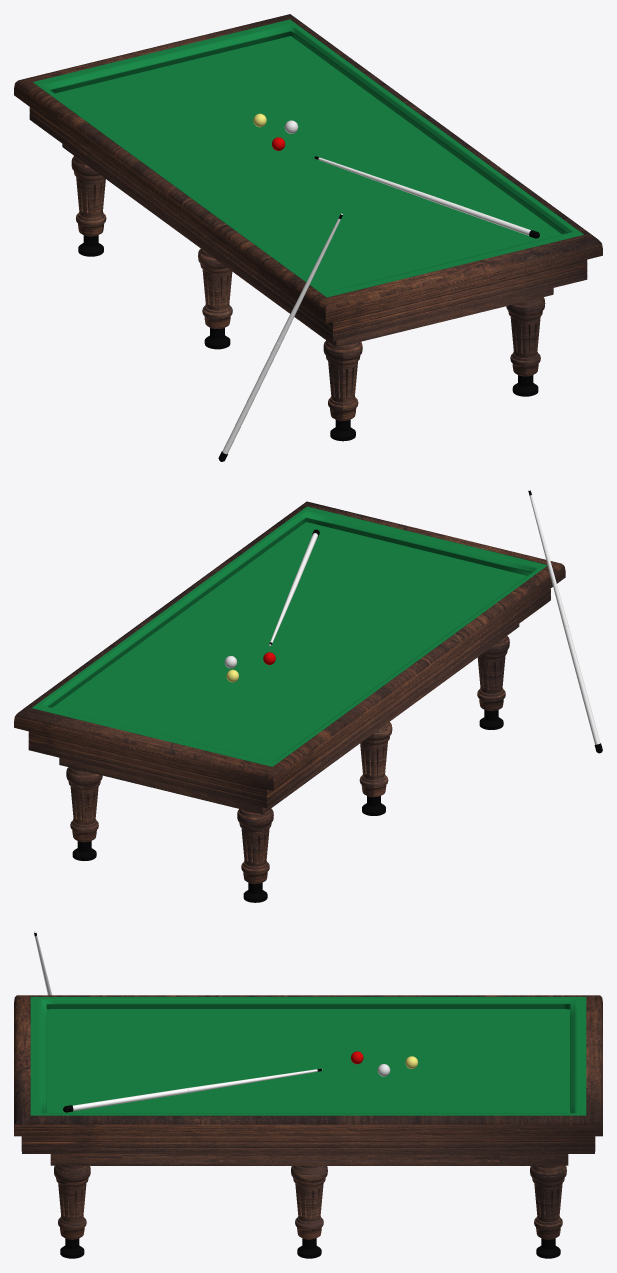
The model's file is poolTable.glb.
3 views of the same model, one above another, from view 1: azimuth 30°, elevation 25°; view 2: azimuth 150°, elevation 25°; view 3: azimuth 270°, elevation 25° (orthographic). The views are drawn at different scales.
Visible parts, largest first — view 1: Object001, Default, Object002, Object003; view 2: Object001, Default, Object002, Object003; view 3: Object001, Default, Object003.
Boxes of the visible parts, x1=… form: Object001: x1=33, y1=19, x2=583, y2=297; Default: x1=14, y1=14, x2=602, y2=441; Object002: x1=218, y1=213, x2=342, y2=461; Object003: x1=314, y1=156, x2=539, y2=238; Object001: x1=32, y1=506, x2=547, y2=766; Default: x1=14, y1=501, x2=565, y2=902; Object002: x1=528, y1=490, x2=602, y2=753; Object003: x1=269, y1=529, x2=319, y2=646; Object001: x1=30, y1=997, x2=586, y2=1115; Default: x1=14, y1=995, x2=602, y2=1258; Object003: x1=63, y1=1068, x2=322, y2=1112.
Bounding box in the file's own units: 0.6444 × 0.4244 × 0.9927.
Materials: 11 (1 with a texture image).
